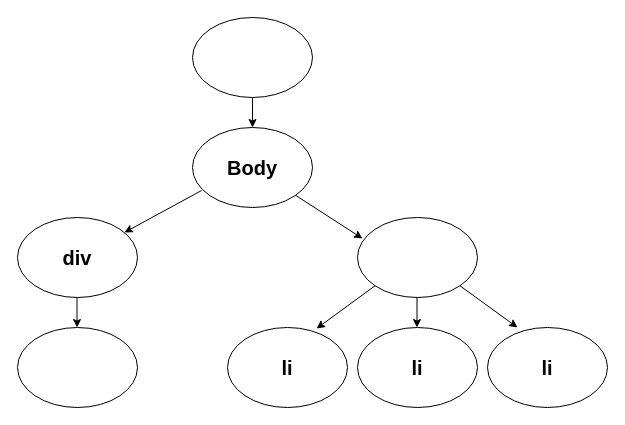
Image size: 625x425. Some labels were removed from this diagram. The shapes that lost their labels are listed below. From the top down, each one's centre as x and y in pixels, then its label:
At (252,57): "Document".
At (417,257): "ul".
At (77,367): "h1".
